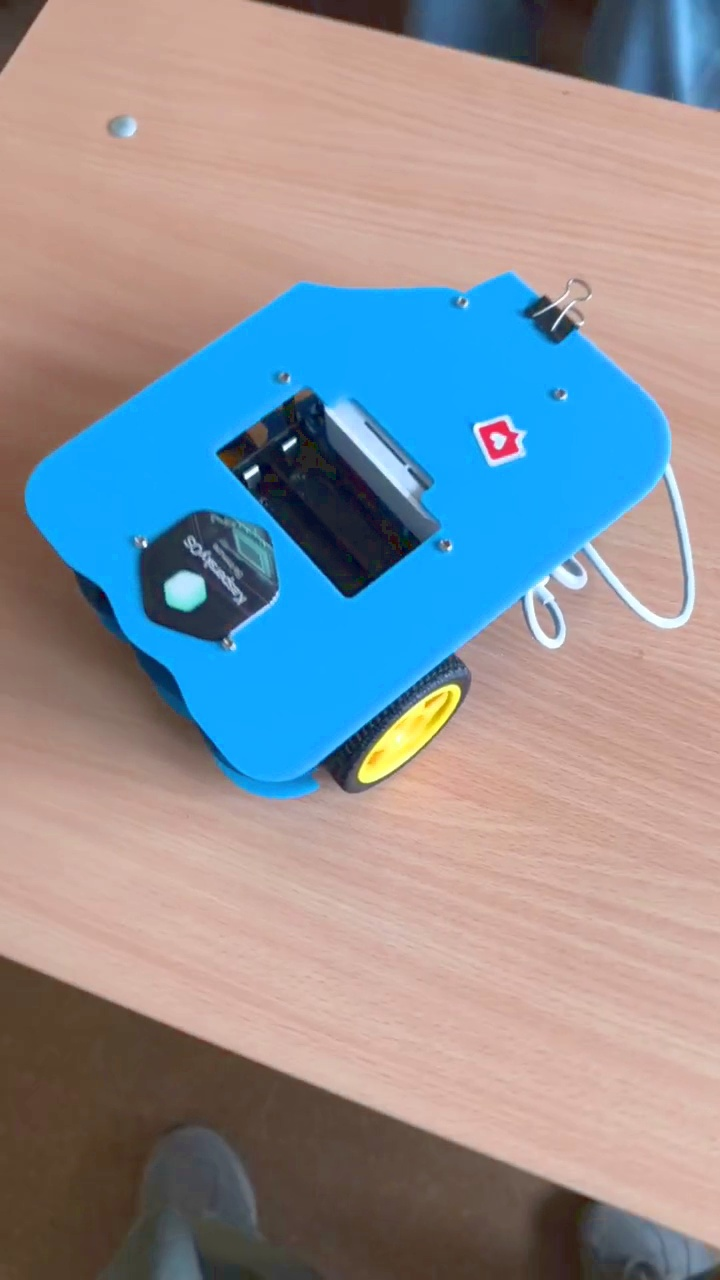robot: (21, 266, 697, 803)
